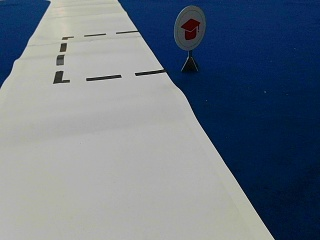school: (173, 6, 205, 48)
